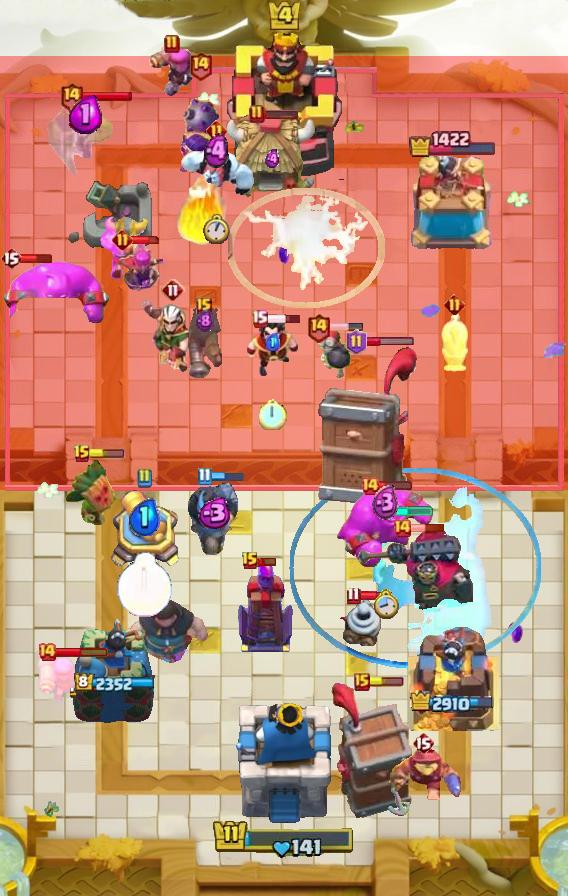barbarian-evolution: (227, 187, 384, 309)
barbarian-hut: (42, 95, 128, 181)
bomb-tower: (185, 304, 223, 380)
clock: (212, 818, 356, 860)
clone: (336, 484, 434, 570), (0, 261, 112, 327)
dart-goblin: (317, 346, 417, 508), (330, 681, 414, 819)
electro-spirit: (69, 94, 102, 133), (194, 497, 232, 529), (128, 498, 160, 536), (372, 485, 399, 521), (204, 133, 229, 169), (194, 309, 214, 333), (264, 149, 279, 169), (266, 333, 280, 351)
elixir: (115, 552, 172, 618), (259, 398, 287, 430), (203, 214, 230, 245), (372, 588, 399, 619)
emote: (55, 646, 108, 658), (81, 90, 133, 102), (365, 336, 416, 347), (265, 313, 303, 325), (359, 590, 394, 603), (263, 108, 299, 120), (210, 470, 245, 482), (377, 481, 413, 492), (19, 252, 53, 263), (328, 322, 364, 332), (89, 449, 125, 459), (410, 523, 446, 533), (368, 677, 404, 687), (130, 235, 162, 245), (257, 556, 277, 567)
evolution-symbol: (115, 237, 163, 299)
executioner: (438, 311, 470, 375)
fireball: (384, 746, 462, 820)
goblin-ball: (176, 81, 224, 177)
goblin-barrel: (64, 458, 120, 530)
goblin-drill: (340, 592, 388, 646)
goblin-giant: (100, 214, 152, 280)
ice-golem: (314, 323, 352, 379)
ice-spirit: (394, 504, 436, 516)
ice-spirit-evolution-symbol: (235, 558, 297, 654)
inferno-dragon: (185, 478, 241, 558)
inferno-tower: (357, 526, 473, 614)
king-tower: (224, 29, 344, 181), (235, 703, 333, 826)
lumberjack: (245, 316, 301, 380)
pad_0: (288, 468, 542, 670)
prince: (225, 110, 319, 200)
queen-tower: (70, 616, 158, 731), (407, 627, 499, 731), (407, 156, 499, 256)
rage: (178, 146, 254, 202)
royal-hog: (126, 598, 210, 676)
royal-recruit: (105, 484, 183, 574)
selected: (408, 130, 498, 158), (410, 690, 496, 716), (73, 673, 154, 695)
skeleton-king: (139, 299, 207, 375)
text: (188, 51, 213, 82), (60, 81, 85, 112), (305, 312, 330, 343), (161, 278, 185, 302), (346, 329, 367, 355), (0, 246, 22, 270), (412, 731, 434, 755), (112, 229, 133, 251), (206, 119, 227, 140), (444, 294, 465, 315), (360, 476, 380, 496), (392, 518, 412, 538), (37, 642, 57, 662), (73, 444, 91, 464), (241, 551, 259, 571), (251, 309, 268, 328), (164, 34, 180, 54), (249, 104, 265, 124), (136, 468, 152, 488), (196, 297, 212, 315), (354, 673, 370, 691), (346, 587, 361, 606), (197, 467, 211, 485)
tombstone: (149, 42, 195, 98), (37, 653, 85, 703)
valkyrie: (174, 160, 234, 250)
